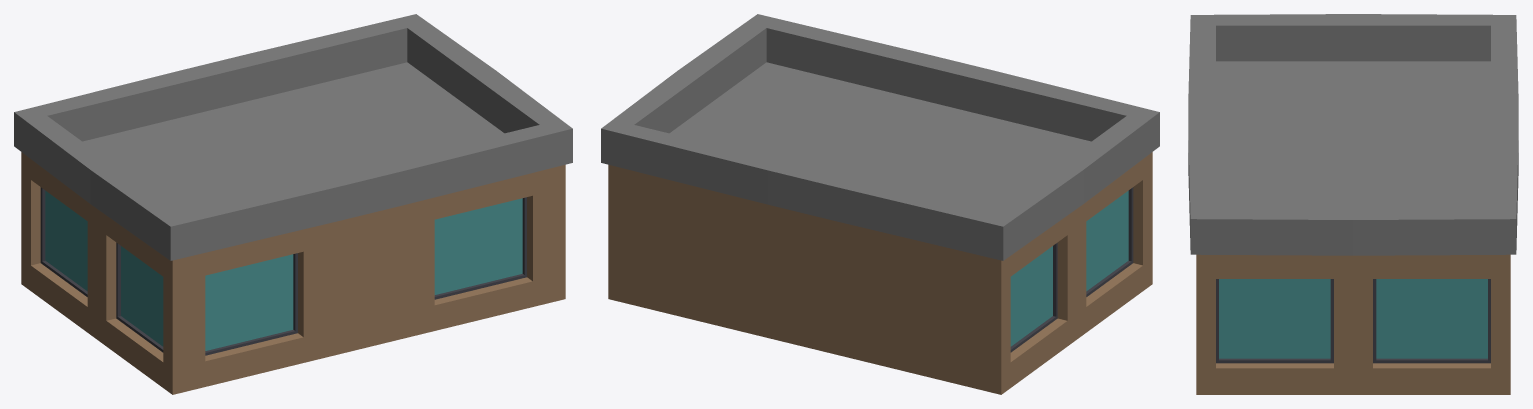
Rendered from cb_Building_1_D.glb.
3 views of the same model, side by side, from view 1: azimuth 30°, elevation 25°; view 2: azimuth 150°, elevation 25°; view 3: azimuth 270°, elevation 25° (orthographic). The views are drawn at different scales.
Visible parts, largest first — view 1: Building 1 D; view 2: Building 1 D; view 3: Building 1 D.
Part boxes in pixels (bbox=[...]): Building 1 D: bbox=[14, 14, 572, 394]; Building 1 D: bbox=[601, 14, 1159, 394]; Building 1 D: bbox=[1188, 14, 1518, 394].
Size of the model in its own units: 12.4 by 5 by 8.4.
Materials: 1 (1 with a texture image).
